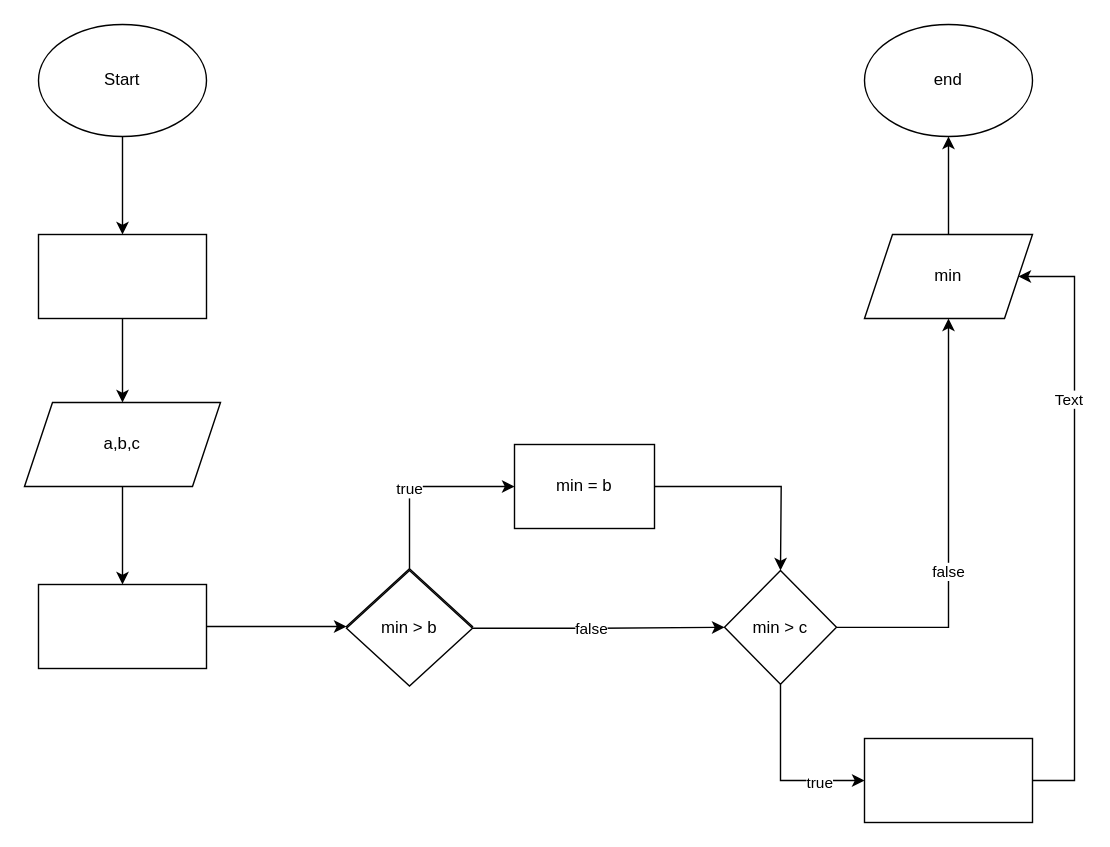
The diagram is 1110 pixels wide and 847 high, and some of its shapes have lost their labels. Here are the shapes that lost their labels. From the top down, the centre of each, then its label:
At (121,275): "a,b,c min".
At (121,625): "min = a".
At (947,779): "min = c".
